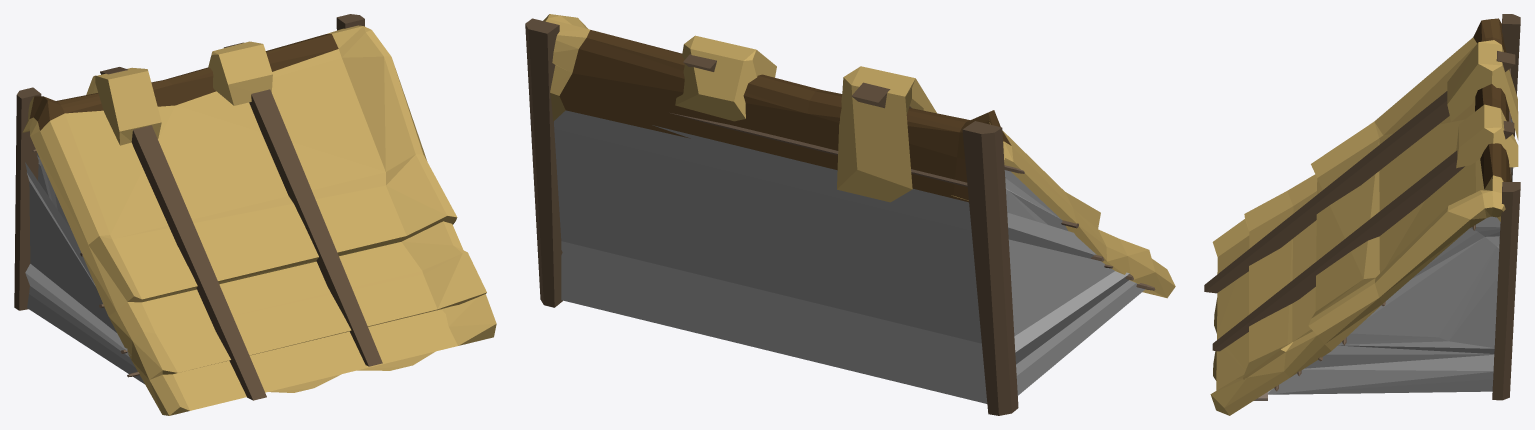
Rendered from EA03_Village_Hut_Roof_Cut_02a.fbx.
The picture shows the model from 3 angles, left to right: view 1: azimuth 30°, elevation 25°; view 2: azimuth 150°, elevation 25°; view 3: azimuth 270°, elevation 25°; orthographic projection. The views are drawn at different scales.
Visible parts, largest first — view 1: EA03_Village_Hut_Roof_Cut_02a_LOD0; view 2: EA03_Village_Hut_Roof_Cut_02a_LOD0; view 3: EA03_Village_Hut_Roof_Cut_02a_LOD0.
Part boxes in pixels (left/top/right/bottom): EA03_Village_Hut_Roof_Cut_02a_LOD0: left=14, top=14, right=496, bottom=415; EA03_Village_Hut_Roof_Cut_02a_LOD0: left=525, top=14, right=1175, bottom=415; EA03_Village_Hut_Roof_Cut_02a_LOD0: left=1204, top=14, right=1520, bottom=415.
Size of what is drawn, in the model's own units: 8.5 by 5.44 by 6.29.
